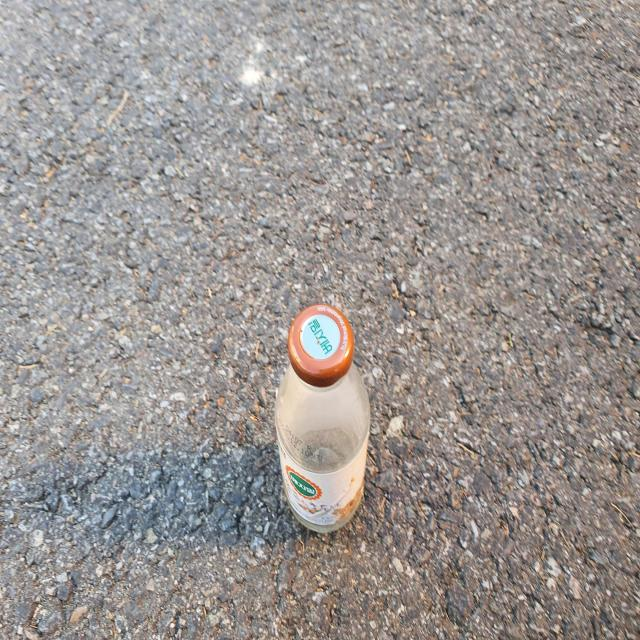glass: (275, 304, 371, 533)
